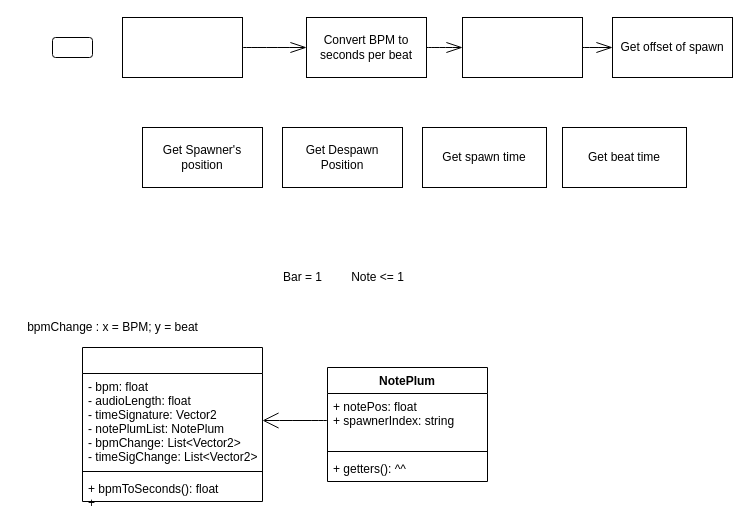
Image size: 750x526. Some labels were removed from this diagram. The box of each missing label's shape, as (x1, y1, x2, y2) in pixels:
Beat Map: (82, 346, 262, 502)
Get Audio length: (122, 16, 242, 78)
Slice audio by SPB: (462, 16, 582, 78)
Start: (52, 36, 92, 58)
